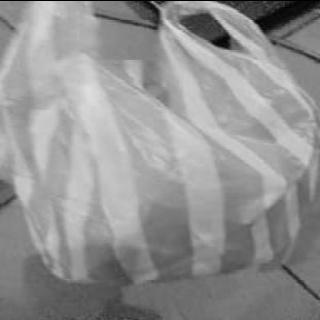objects: (7, 2, 320, 282)
